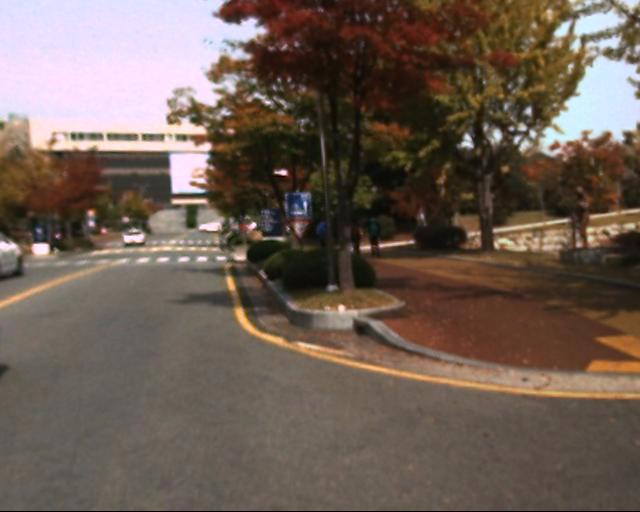person: (350, 216, 371, 269), (373, 213, 393, 266)
